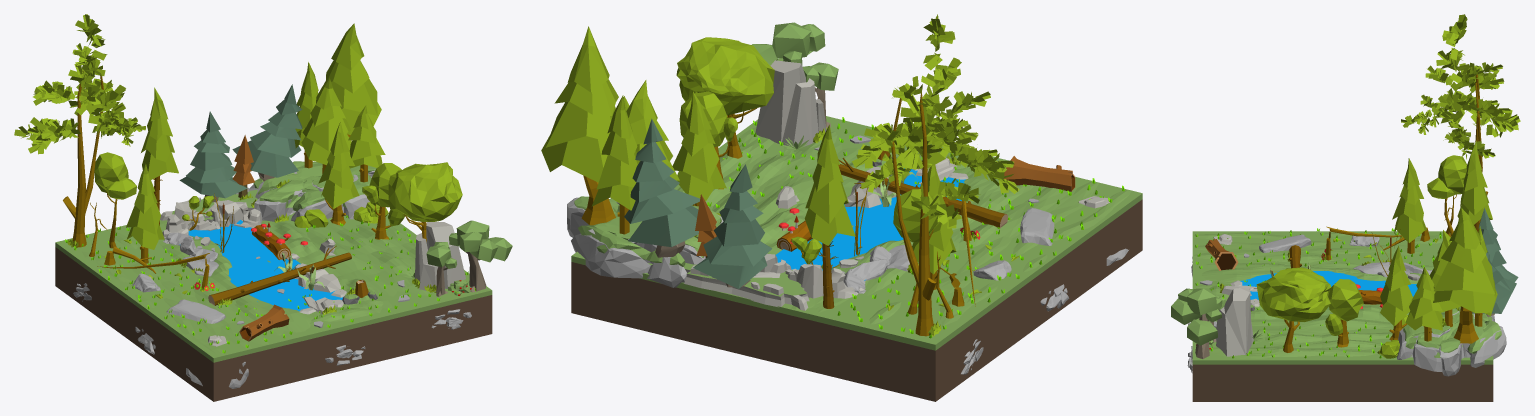
Rendered from Forest.fbx.
3 renders of one model, left to right at view 1: azimuth 30°, elevation 25°; view 2: azimuth 150°, elevation 25°; view 3: azimuth 270°, elevation 25°, orthographic. The views are drawn at different scales.
Parts seen in each view (by area): view 1: Cube, Terrain_Plane_Rock_Uneven_Large_01, Cube (1), Vegetation_Modular_Tree_Foliage_Fir_Small_01, LowPolyWaterv2, Vegetation_Modular_Tree_Foliage_Clump_Large_05, Vegetation_Tree_Pine_03, Vegetation_Modular_Tree_Foliage_Alpine_01, Vegetation_Tree_Pine_06, Rock_Chunks_Large_Tall_01 (1) 1, Vegetation_Modular_Tree_Foliage_Alpine_03, Vegetation_Tree_Common_02 (+23 smaller); view 2: Cube, Terrain_Plane_Rock_Uneven_Large_01, Cube (1), Vegetation_Modular_Tree_Foliage_Fir_Small_01, Vegetation_Modular_Tree_Foliage_Alpine_01, Vegetation_Tree_Pine_03, Vegetation_Modular_Tree_Foliage_Clump_Large_05, Vegetation_Tree_Pine_06, Rock_Large_17 (3), Rock_Chunks_Large_Tall_01 1, LowPolyWaterv2, Vegetation_Modular_Tree_Foliage_Alpine_03 (1) (+23 smaller); view 3: Cube, Terrain_Plane_Rock_Uneven_Large_01, Cube (1), Vegetation_Modular_Tree_Foliage_Fir_Small_01, Vegetation_Modular_Tree_Foliage_Alpine_01, Vegetation_Modular_Tree_Foliage_Clump_Large_05, Rock_Chunks_Large_Tall_01 1, Vegetation_Tree_Common_02, Rock_Large_17 (3), Rock_Chunks_Large_Tall_01 (1) 1, Vegetation_Modular_Tree_Foliage_Alpine_04 (2), Vegetation_Modular_Tree_Foliage_Alpine_01 (1) (+17 smaller).
Boxes of the visible parts, x1,y1,x2,y2 form: Cube: (55,247,492,401); Terrain_Plane_Rock_Uneven_Large_01: (81,212,465,355); Cube (1): (55,212,492,362); Vegetation_Modular_Tree_Foliage_Fir_Small_01: (14,14,145,154); LowPolyWaterv2: (179,220,342,311); Vegetation_Modular_Tree_Foliage_Clump_Large_05: (388,162,462,221); Vegetation_Tree_Pine_03: (232,84,302,181); Vegetation_Modular_Tree_Foliage_Alpine_01: (324,23,381,134); Vegetation_Tree_Pine_06: (179,111,247,202); Rock_Chunks_Large_Tall_01 (1) 1: (253,161,376,211); Vegetation_Modular_Tree_Foliage_Alpine_03: (301,78,351,164); Vegetation_Tree_Common_02: (449,220,512,292); Cube: (571,199,1142,401); Terrain_Plane_Rock_Uneven_Large_01: (677,127,1130,325); Cube (1): (571,116,1142,350); Vegetation_Modular_Tree_Foliage_Fir_Small_01: (852,14,1019,228); Vegetation_Modular_Tree_Foliage_Alpine_01: (541,26,618,182); Vegetation_Tree_Pine_03: (624,118,699,257); Vegetation_Modular_Tree_Foliage_Clump_Large_05: (676,37,774,115); Vegetation_Tree_Pine_06: (693,164,772,288); Rock_Large_17 (3): (755,60,826,148); Rock_Chunks_Large_Tall_01 1: (567,197,723,287); LowPolyWaterv2: (775,168,965,280); Vegetation_Modular_Tree_Foliage_Alpine_03 (1): (804,124,855,245); Cube: (1192,364,1493,401); Terrain_Plane_Rock_Uneven_Large_01: (1194,232,1442,358); Cube (1): (1192,231,1493,364); Vegetation_Modular_Tree_Foliage_Fir_Small_01: (1401,14,1520,159); Vegetation_Modular_Tree_Foliage_Alpine_01: (1433,208,1495,313); Vegetation_Modular_Tree_Foliage_Clump_Large_05: (1256,267,1331,321); Rock_Chunks_Large_Tall_01 1: (1397,311,1506,376); Vegetation_Tree_Common_02: (1171,288,1222,358); Rock_Large_17 (3): (1215,288,1253,356); Rock_Chunks_Large_Tall_01 (1) 1: (1403,307,1501,357); Vegetation_Modular_Tree_Foliage_Alpine_04 (2): (1392,158,1426,242); Vegetation_Modular_Tree_Foliage_Alpine_01 (1): (1380,245,1412,326).
Size of the model in its own units: 13.59 by 10.18 by 12.16.
